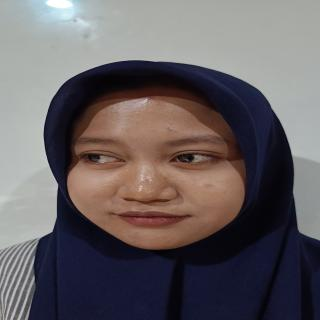Takut: (58, 79, 266, 259)
